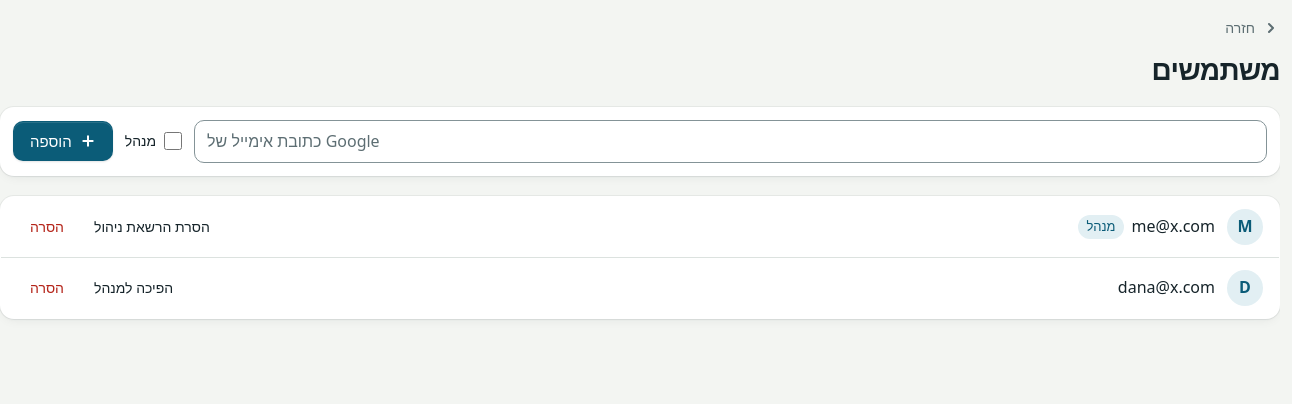
Scenario: UsersScreen › shows the 409 error inline in Hebrew
Expected: the text "dana@x.com" is shown, [1118, 275, 1215, 300]
In the field labelled "כתובת אימייל של Google": (731, 141) [194, 120, 1267, 163], type "dana@x.com"
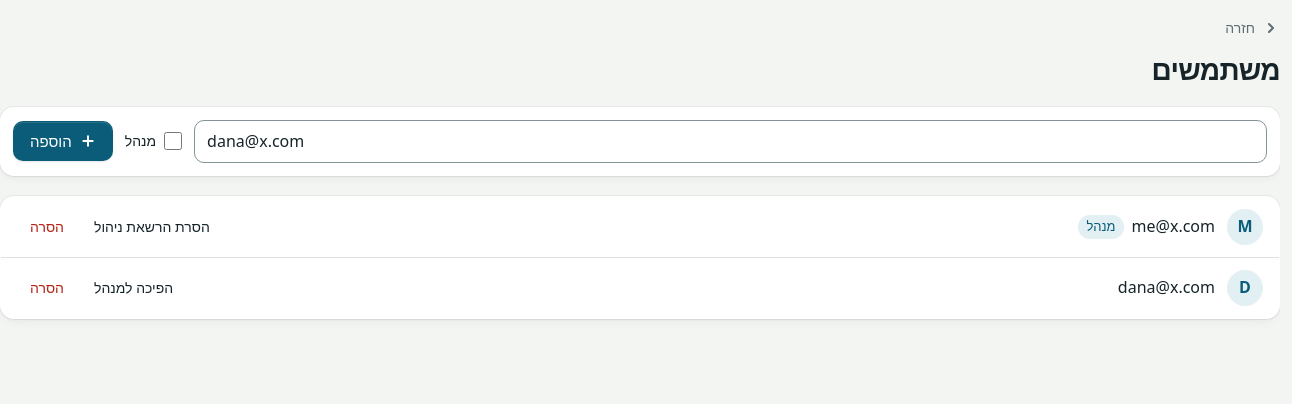
Click the button "הוספה": (63, 141) [13, 121, 113, 161]
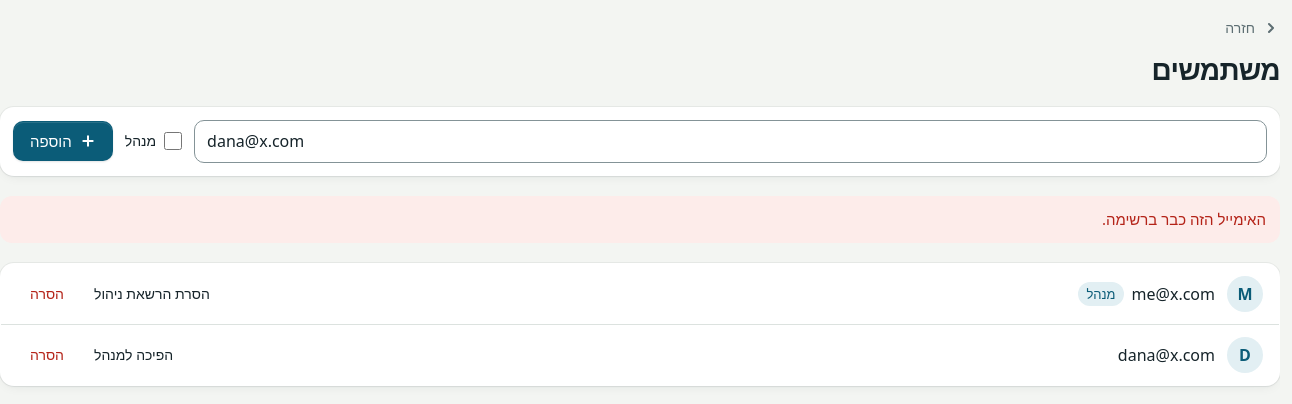
Expected: the message reads "האימייל הזה כבר ברשימה.", [1102, 209, 1266, 229]
